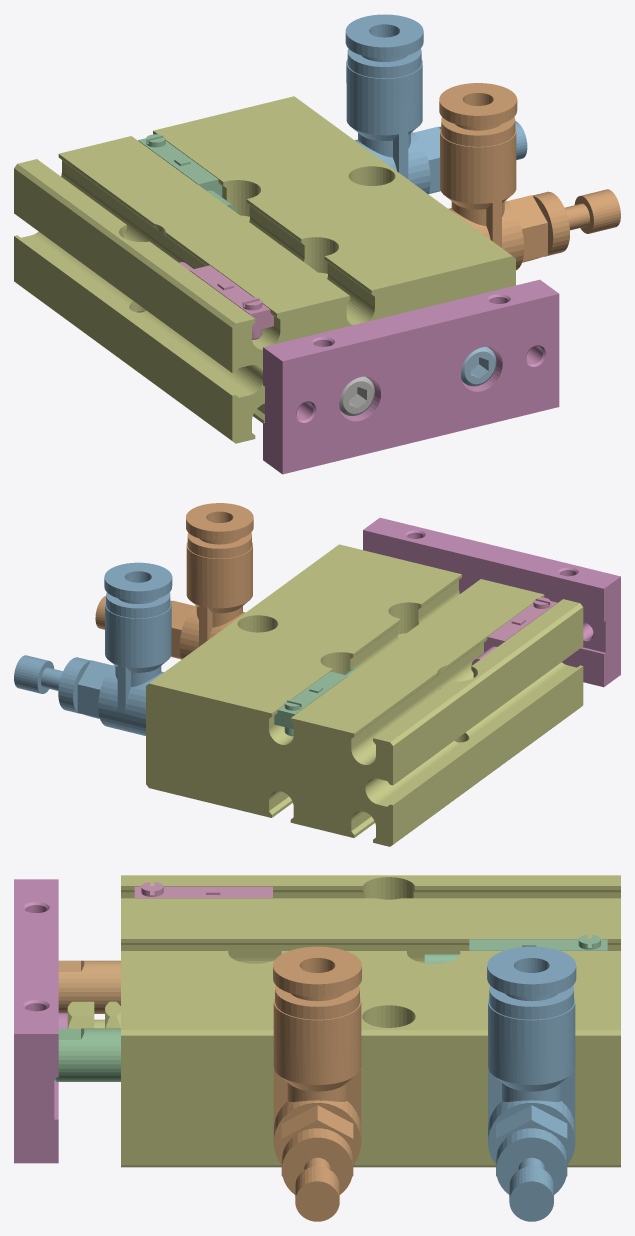
Rendered from case-02_astra6.glb.
The picture shows the model from 3 angles, top to bottom: view 1: azimuth 30°, elevation 25°; view 2: azimuth 150°, elevation 25°; view 3: azimuth 270°, elevation 25°; orthographic projection. The views are drawn at different scales.
Parts seen in each view (by area): view 1: c00001, c00002, c00009, c00010, c00007, c00008, c00005, c00006; view 2: c00001, c00010, c00002, c00009, c00008, c00007; view 3: c00001, c00009, c00010, c00002, c00004, c00003, c00008, c00007.
Part boxes in pixels (x1,y1,x2,y2): c00001: (14, 96, 515, 443); c00002: (263, 279, 559, 474); c00009: (439, 83, 620, 270); c00010: (345, 14, 527, 194); c00007: (179, 262, 273, 339); c00008: (138, 134, 236, 212); c00005: (339, 376, 374, 415); c00006: (461, 347, 496, 386); c00001: (146, 544, 583, 846); c00010: (14, 562, 172, 735); c00002: (363, 517, 620, 687); c00009: (95, 503, 253, 659); c00008: (274, 668, 356, 736); c00007: (471, 597, 557, 665); c00001: (67, 875, 620, 1167); c00009: (273, 946, 361, 1221); c00010: (487, 946, 576, 1221); c00002: (14, 879, 67, 1163); c00004: (54, 1028, 120, 1081); c00003: (58, 960, 120, 1013); c00008: (424, 934, 607, 963); c00007: (134, 882, 272, 898).
Bounding box in the file's own units: 68.8 × 28.5 × 68.
